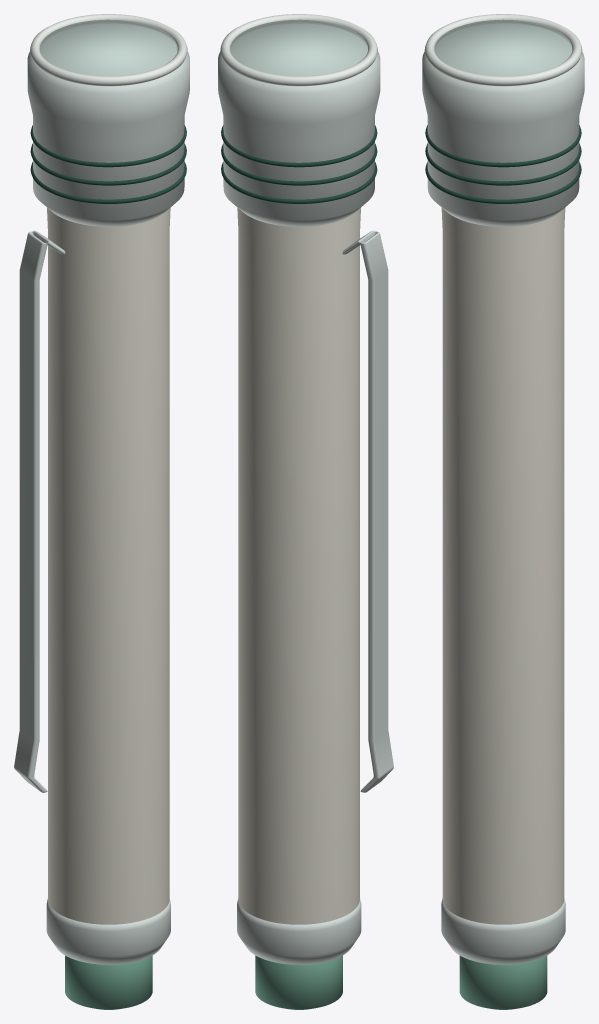
File: light.glb
3 views of the same model, side by side, from view 1: azimuth 30°, elevation 25°; view 2: azimuth 150°, elevation 25°; view 3: azimuth 270°, elevation 25° (orthographic).
Parts seen in each view (by area): view 1: Penlight | continuous ivory barrel.001, Penlight | machined optical collar.001, Penlight | bent spring pocket clip.001, Penlight | clear protective lens.001, Penlight | rear steel cap.001, Penlight | rear push button.001, Penlight | polished lens rim.001, Penlight | collar machining groove.005, Penlight | collar machining groove.003, Penlight | collar machining groove.004; view 2: Penlight | continuous ivory barrel.001, Penlight | machined optical collar.001, Penlight | bent spring pocket clip.001, Penlight | clear protective lens.001, Penlight | rear steel cap.001, Penlight | rear push button.001, Penlight | polished lens rim.001, Penlight | collar machining groove.005, Penlight | collar machining groove.003, Penlight | collar machining groove.004; view 3: Penlight | continuous ivory barrel.001, Penlight | machined optical collar.001, Penlight | clear protective lens.001, Penlight | rear steel cap.001, Penlight | rear push button.001, Penlight | polished lens rim.001, Penlight | collar machining groove.003, Penlight | collar machining groove.004, Penlight | collar machining groove.005.
Part boxes in pixels (x1,y1,x2,y2): Penlight | continuous ivory barrel.001: [47, 208, 170, 924]; Penlight | machined optical collar.001: [27, 24, 189, 226]; Penlight | bent spring pocket clip.001: [14, 230, 65, 792]; Penlight | clear protective lens.001: [40, 19, 177, 76]; Penlight | rear steel cap.001: [46, 898, 170, 964]; Penlight | rear push button.001: [65, 955, 152, 1009]; Penlight | polished lens rim.001: [30, 14, 187, 86]; Penlight | collar machining groove.005: [30, 125, 186, 167]; Penlight | collar machining groove.003: [30, 162, 186, 203]; Penlight | collar machining groove.004: [30, 143, 186, 185]; Penlight | continuous ivory barrel.001: [237, 208, 360, 924]; Penlight | machined optical collar.001: [218, 24, 380, 226]; Penlight | bent spring pocket clip.001: [342, 230, 393, 792]; Penlight | clear protective lens.001: [230, 19, 367, 76]; Penlight | rear steel cap.001: [237, 898, 361, 964]; Penlight | rear push button.001: [255, 955, 342, 1009]; Penlight | polished lens rim.001: [220, 14, 377, 86]; Penlight | collar machining groove.005: [221, 125, 377, 167]; Penlight | collar machining groove.003: [221, 162, 377, 203]; Penlight | collar machining groove.004: [221, 143, 377, 185]; Penlight | continuous ivory barrel.001: [441, 208, 565, 924]; Penlight | machined optical collar.001: [422, 24, 584, 226]; Penlight | clear protective lens.001: [434, 19, 572, 76]; Penlight | rear steel cap.001: [441, 898, 565, 964]; Penlight | rear push button.001: [459, 955, 547, 1009]; Penlight | polished lens rim.001: [424, 14, 582, 86]; Penlight | collar machining groove.003: [425, 162, 581, 203]; Penlight | collar machining groove.004: [425, 143, 581, 185]; Penlight | collar machining groove.005: [425, 125, 581, 167].
Size of the model in its own units: 0.027 by 0.1552 by 0.024.
